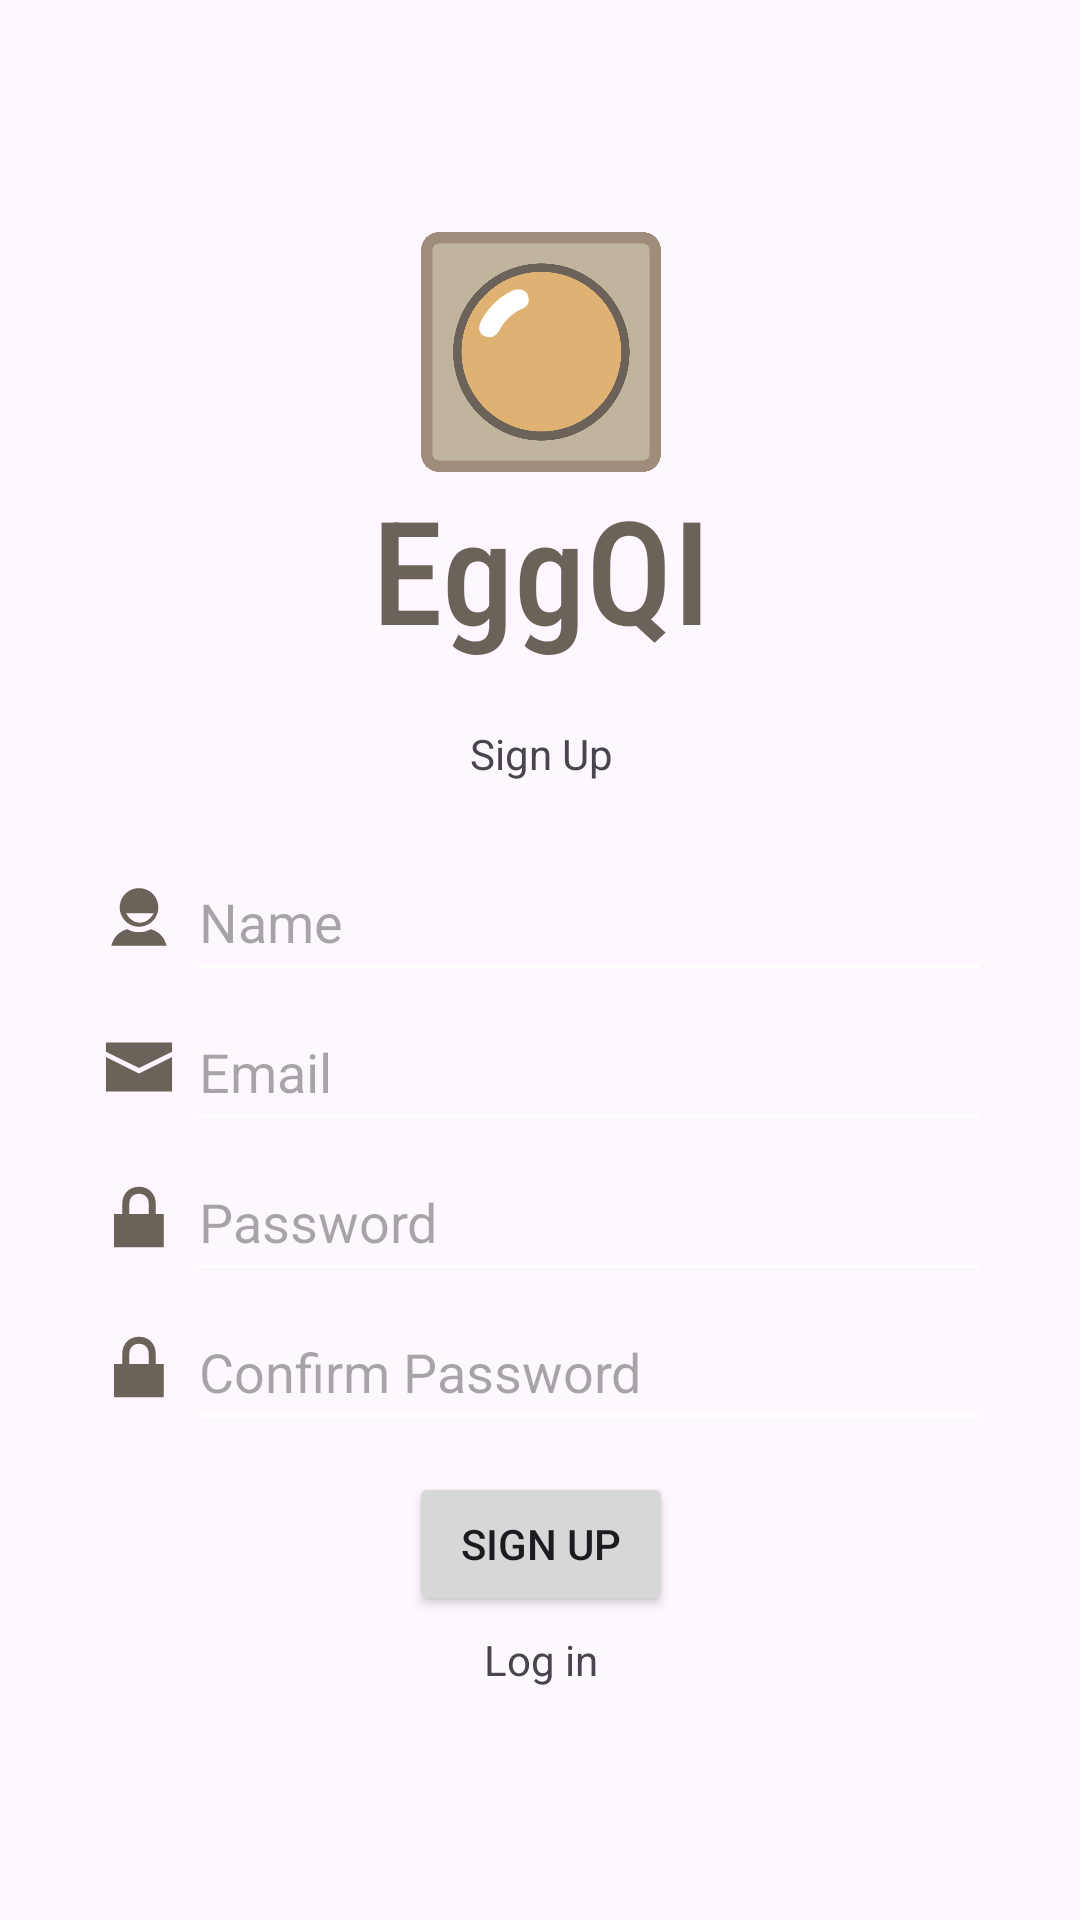

Icons on this 1080×1920 Android screen, each with the point to tap as (x,y):
ai person: (139,917)
ai secure: (139,1217), (139,1367)
